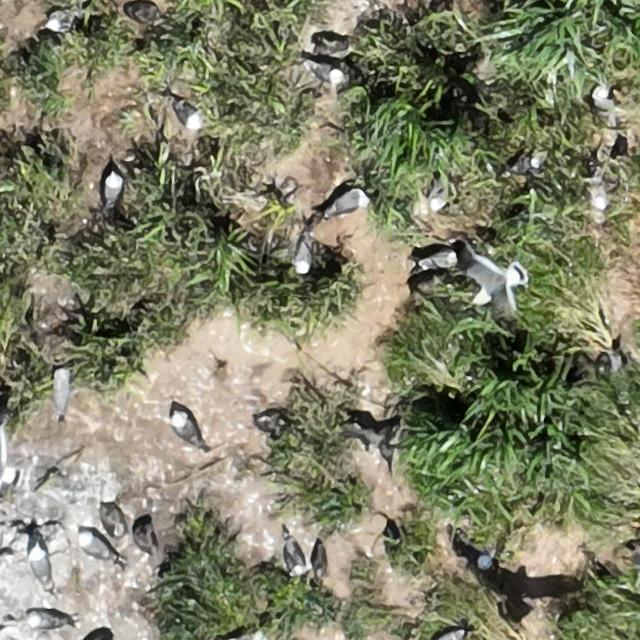F: (464, 252, 526, 308)
umineko: (78, 530, 120, 564), (27, 544, 55, 594), (595, 84, 622, 131), (24, 612, 72, 630), (328, 190, 365, 213), (479, 557, 506, 588), (176, 103, 204, 131), (54, 376, 72, 418), (306, 61, 340, 83), (171, 412, 194, 442), (105, 172, 124, 208), (286, 540, 306, 573), (424, 252, 456, 270), (295, 244, 313, 274), (46, 12, 70, 32), (431, 184, 446, 212), (435, 628, 463, 640)
